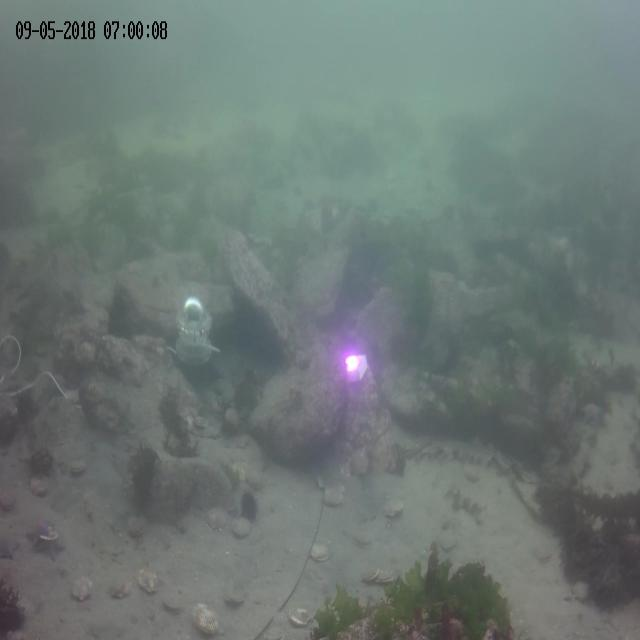scallop: (190, 601, 220, 635), (138, 565, 158, 594), (288, 604, 312, 627), (112, 575, 134, 600), (128, 510, 146, 540), (0, 482, 18, 512), (230, 456, 250, 482), (223, 585, 246, 607), (70, 578, 92, 600), (360, 562, 380, 584), (310, 541, 329, 563), (232, 514, 250, 537), (29, 475, 48, 496), (534, 540, 552, 562), (383, 499, 402, 519), (248, 463, 262, 489), (377, 566, 397, 584), (68, 457, 88, 475), (438, 533, 457, 551), (164, 591, 182, 610), (192, 412, 209, 431), (40, 529, 60, 539)
starfish: (26, 518, 50, 544), (42, 540, 64, 563)
